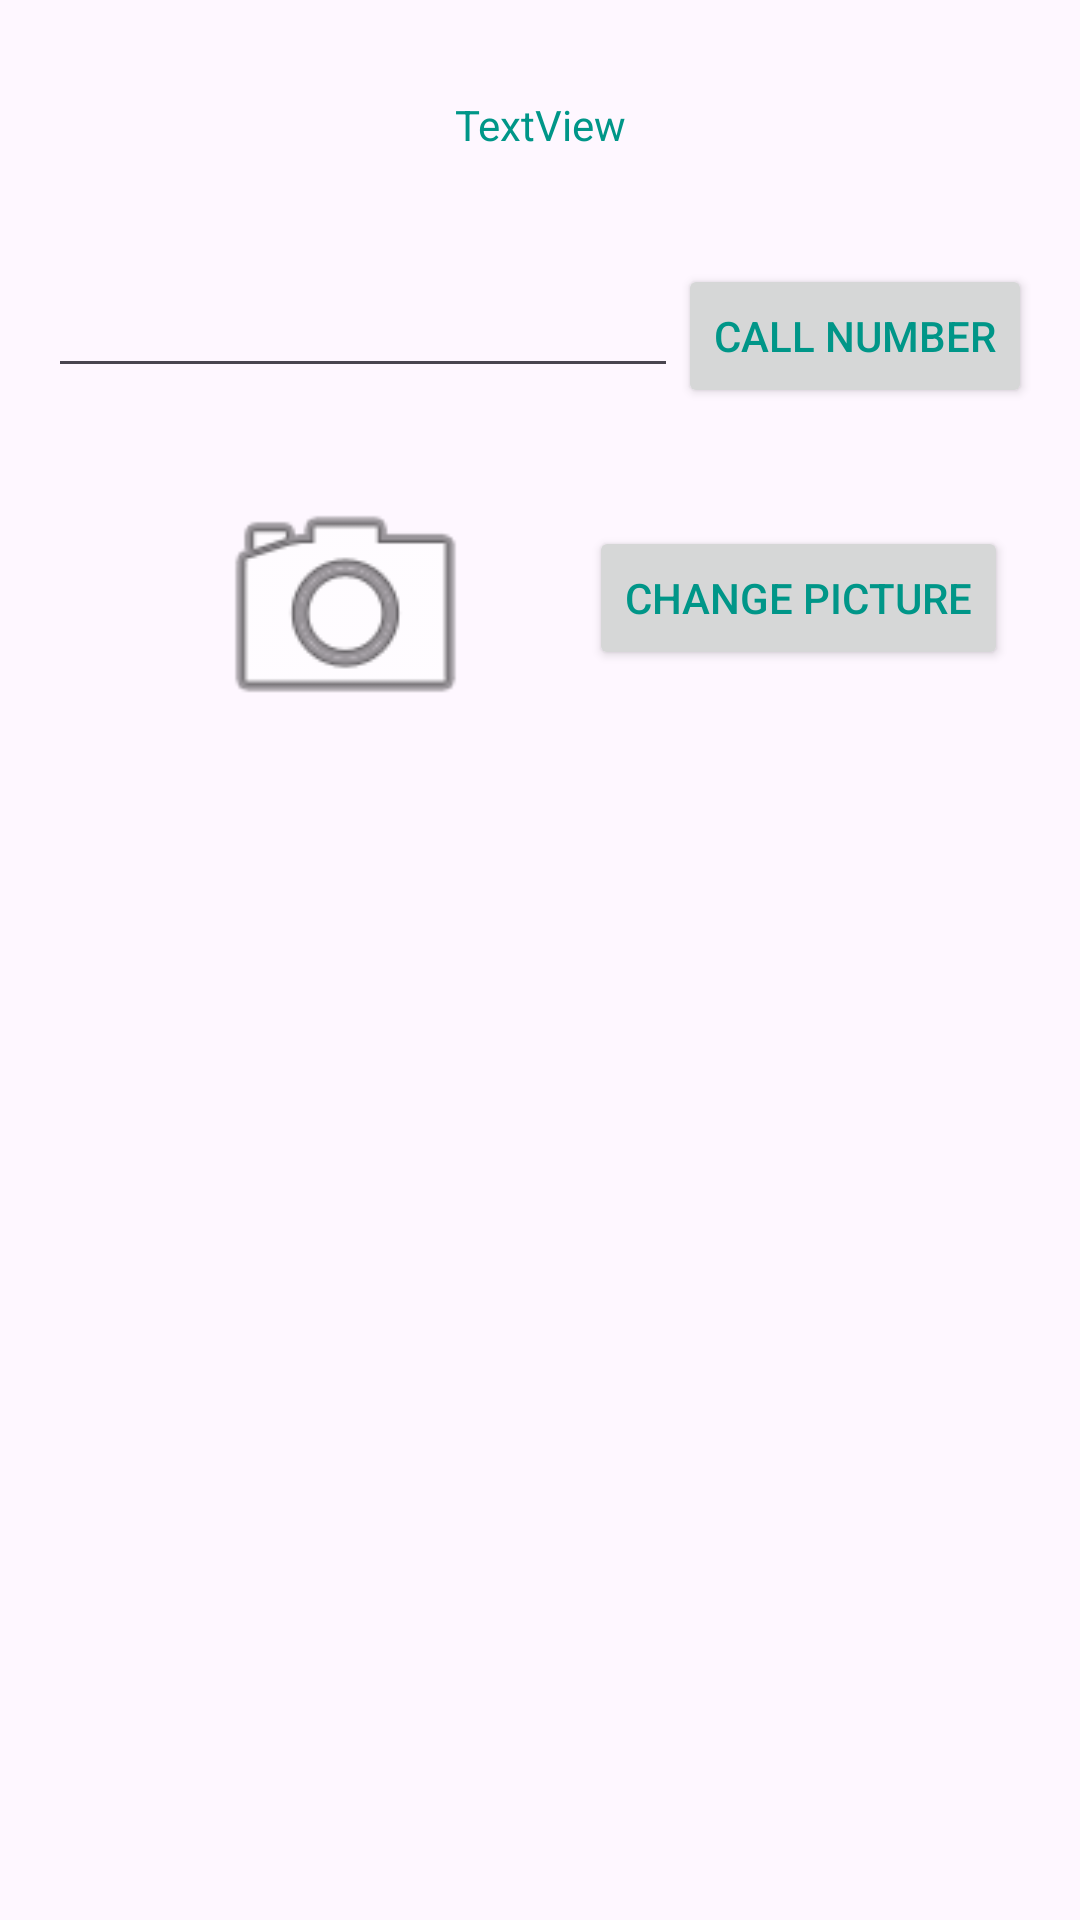

Icons on this 1080px x 1920px Android screen, each with the point to tap as point (x, y):
camera: point (345, 604)
